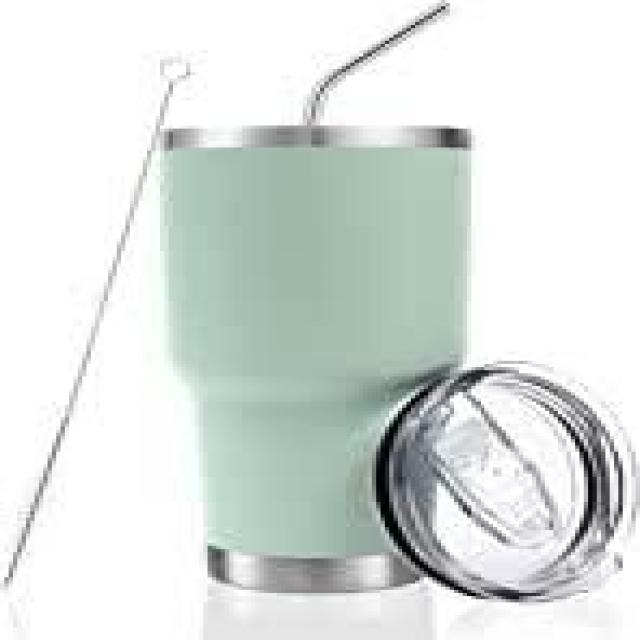bottle: (156, 3, 471, 590)
